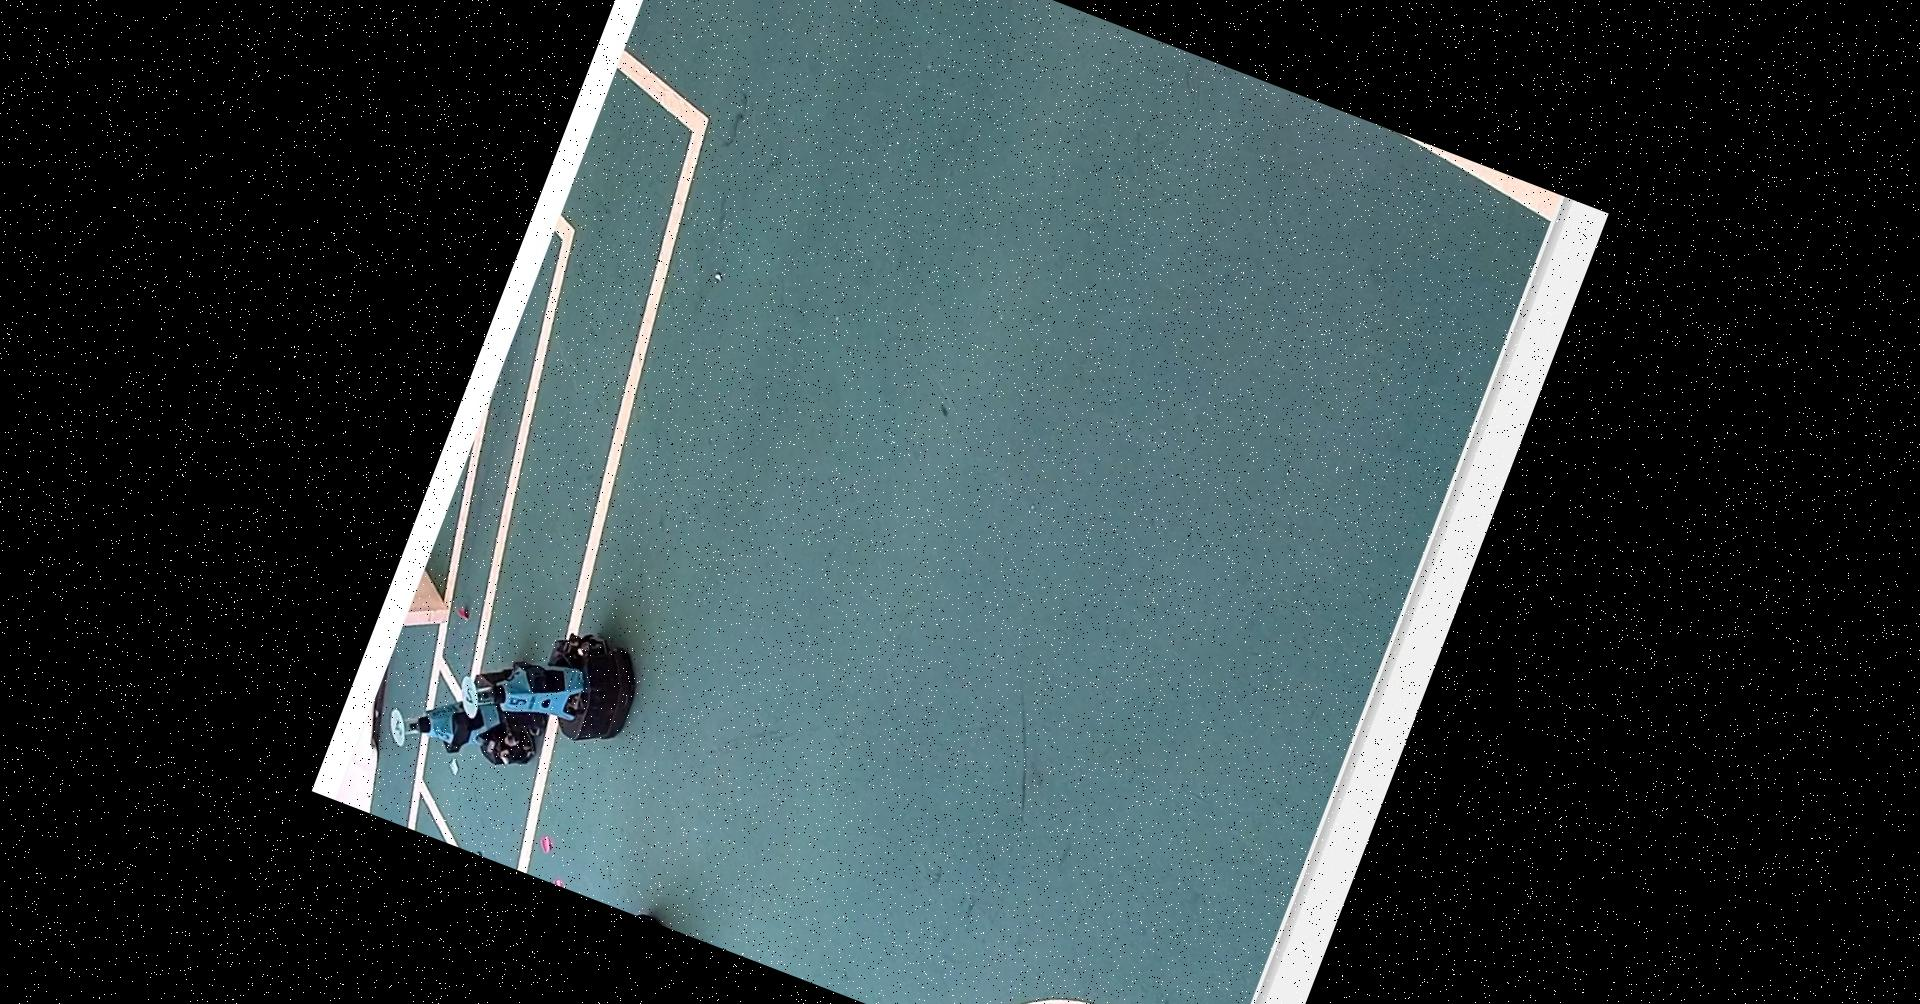Team_Blue: (395, 574, 645, 797), (376, 624, 579, 801)
